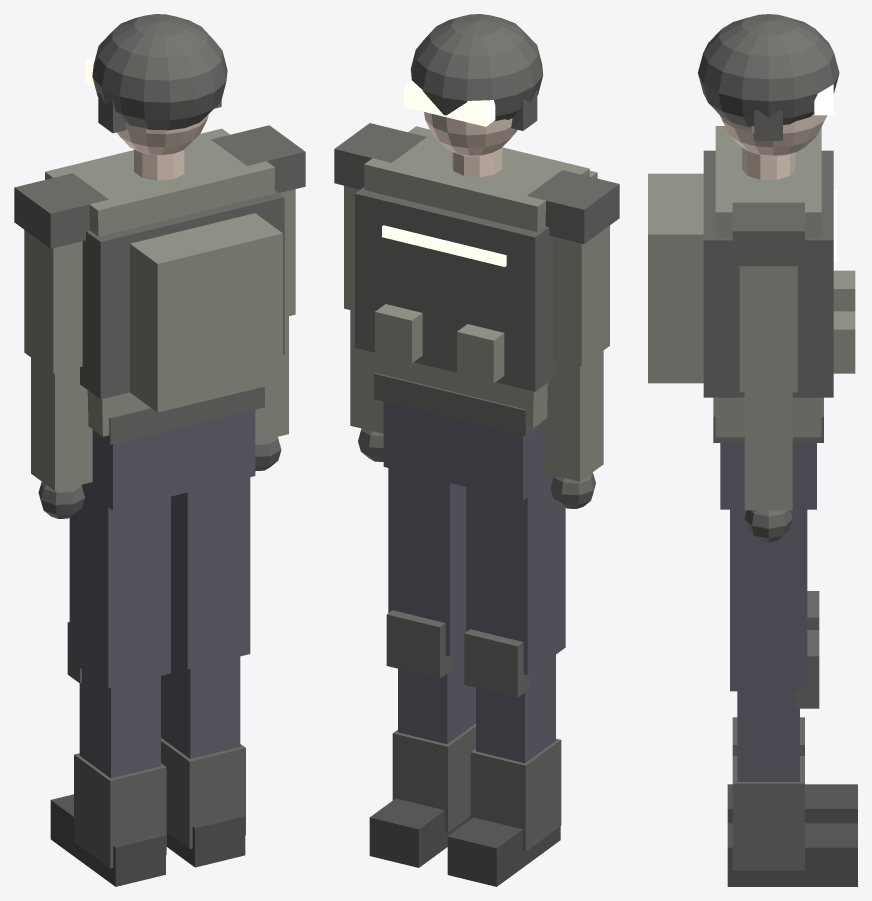
The model's file is GGO_Soldier.fbx.
3 views of the same model, side by side, from view 1: azimuth 30°, elevation 25°; view 2: azimuth 150°, elevation 25°; view 3: azimuth 270°, elevation 25° (orthographic). The views are drawn at different scales.
Visible parts, largest first — view 1: Backpack, Thigh_L, Thigh_R, Chest, Helmet, Pelvis, Vest, UpperArm_L, Shin_L, Boot_L, Shin_R, Forearm_L (+13 smaller); view 2: Vest, Thigh_L, Chest, Thigh_R, Helmet, Pelvis, Boot_L, UpperArm_L, Forearm_L, Boot_R, Shin_L, Shin_R (+18 smaller); view 3: Vest, Thigh_R, Helmet, Backpack, Chest, UpperArm_R, Boot_R, Forearm_R, Shin_R, Shoe_R, ShoulderPad_R, Pelvis (+12 smaller).
Boxes of the visible parts, x1=… form: Backpack: x1=130, y1=213, x2=282, y2=412; Thigh_L: x1=69, y1=472, x2=170, y2=688; Thigh_R: x1=171, y1=477, x2=250, y2=669; Chest: x1=45, y1=128, x2=274, y2=436; Helmet: x1=92, y1=14, x2=227, y2=130; Pelvis: x1=92, y1=409, x2=255, y2=510; Vest: x1=80, y1=190, x2=284, y2=399; UpperArm_L: x1=24, y1=230, x2=82, y2=373; Shin_L: x1=79, y1=669, x2=160, y2=778; Boot_L: x1=74, y1=753, x2=166, y2=868; Shin_R: x1=161, y1=656, x2=240, y2=758; Forearm_L: x1=31, y1=357, x2=92, y2=490; Vest: x1=355, y1=187, x2=555, y2=391; Thigh_L: x1=466, y1=463, x2=565, y2=675; Chest: x1=364, y1=126, x2=589, y2=428; Thigh_R: x1=388, y1=468, x2=466, y2=656; Helmet: x1=410, y1=14, x2=543, y2=121; Pelvis: x1=383, y1=402, x2=553, y2=500; Boot_L: x1=470, y1=738, x2=561, y2=851; UpperArm_L: x1=553, y1=225, x2=609, y2=366; Forearm_L: x1=543, y1=350, x2=603, y2=481; Boot_R: x1=392, y1=723, x2=475, y2=832; Shin_L: x1=476, y1=655, x2=555, y2=763; Shin_R: x1=398, y1=646, x2=475, y2=744; Vest: x1=703, y1=150, x2=833, y2=397; Thigh_R: x1=730, y1=485, x2=807, y2=691; Helmet: x1=698, y1=14, x2=839, y2=127; Backpack: x1=648, y1=173, x2=703, y2=383; Chest: x1=715, y1=126, x2=821, y2=437; UpperArm_R: x1=739, y1=266, x2=797, y2=392; Boot_R: x1=732, y1=756, x2=804, y2=870; Forearm_R: x1=744, y1=392, x2=792, y2=510; Shin_R: x1=737, y1=691, x2=799, y2=781; Shoe_R: x1=727, y1=823, x2=857, y2=886; ShoulderPad_R: x1=732, y1=202, x2=804, y2=266; Pelvis: x1=720, y1=443, x2=816, y2=509.
Size of the model in its own units: 0.61 by 0.435 by 1.91.
